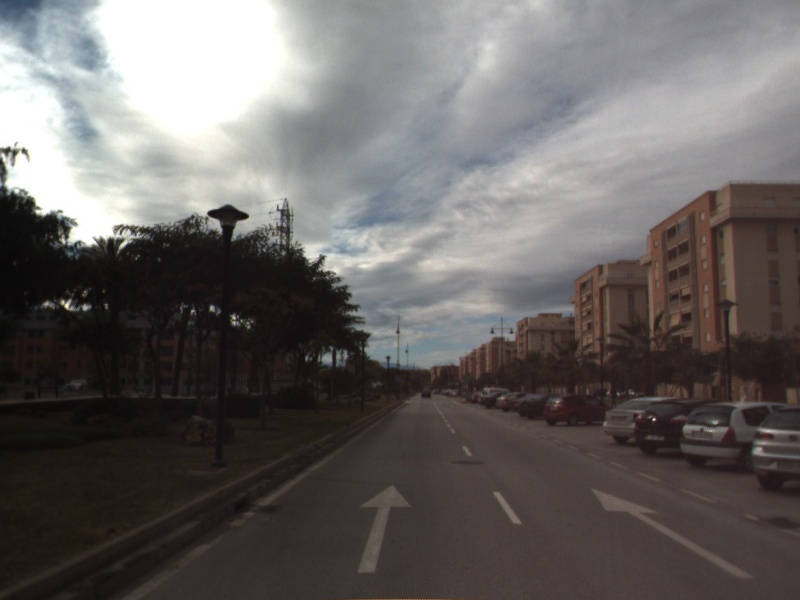STRAIGHT: (589, 486, 754, 580), (355, 482, 414, 575)
